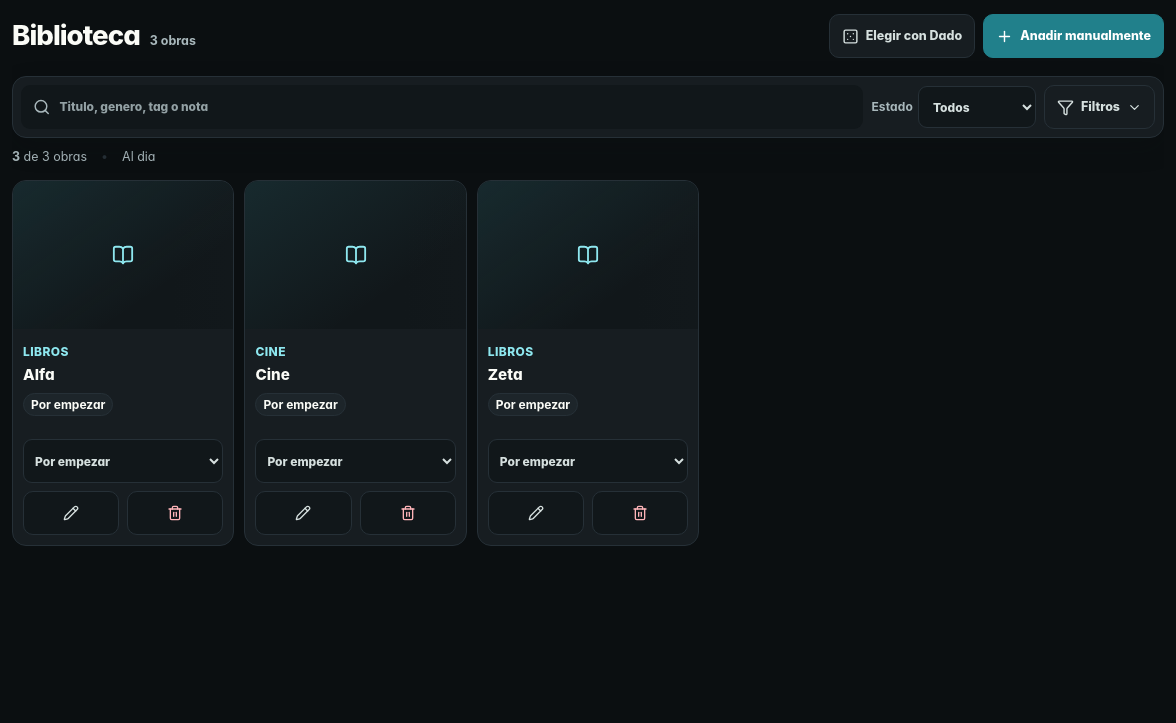
Test: LibraryTab simplificada › filtra por tipo, ordena, persiste densidad y restablece la vista
Click the button "Filtros": point(1099, 107) [1044,85,1155,129]
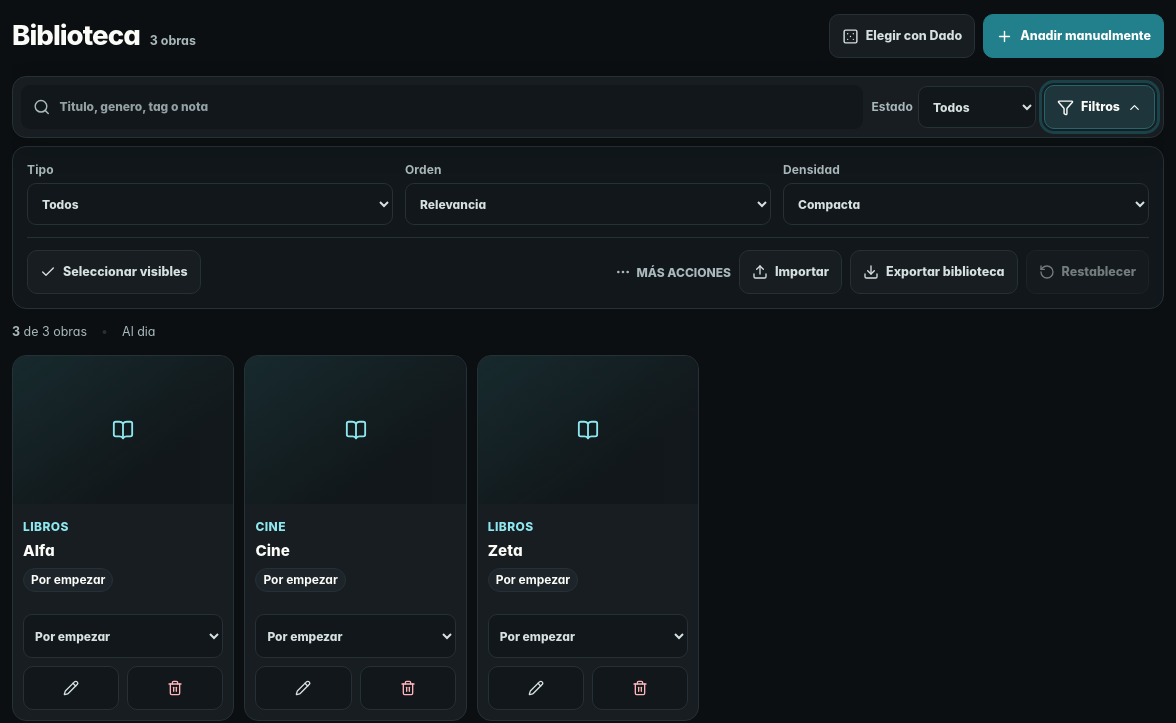
Select "Libros" in the dropdown named "Filtrar por tipo": point(210, 204) [27,183,393,225]
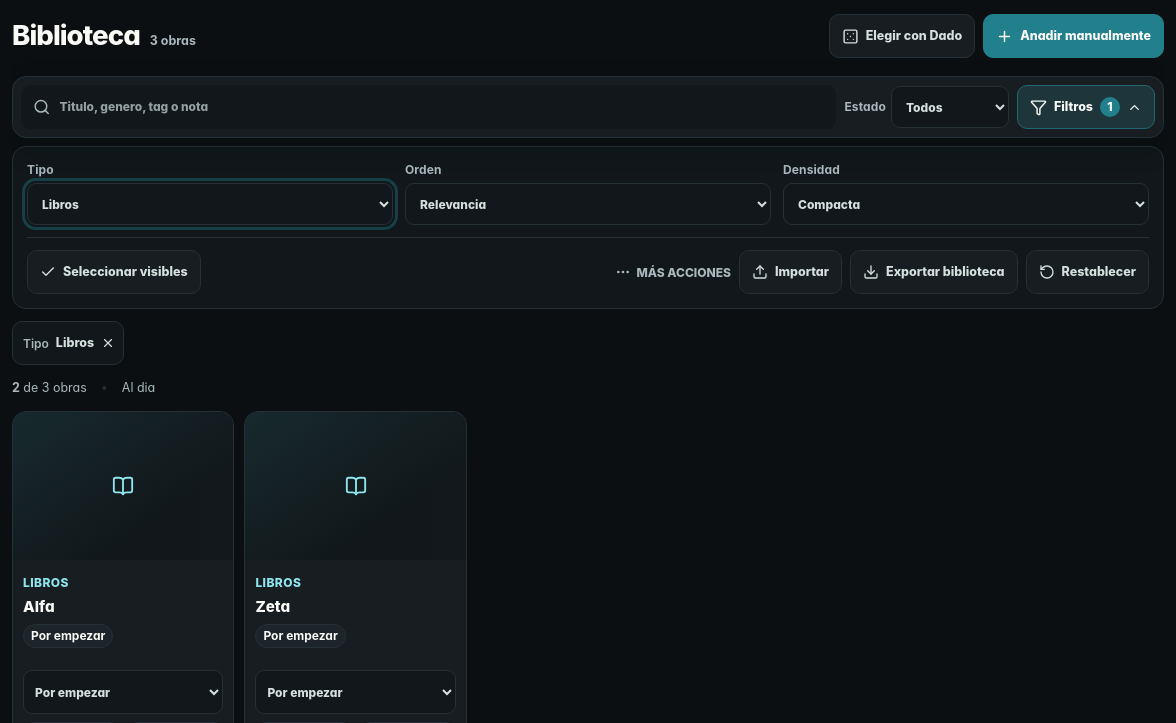
Select "Titulo" in the dropdown named "Ordenar biblioteca": point(588, 204) [405,183,771,225]
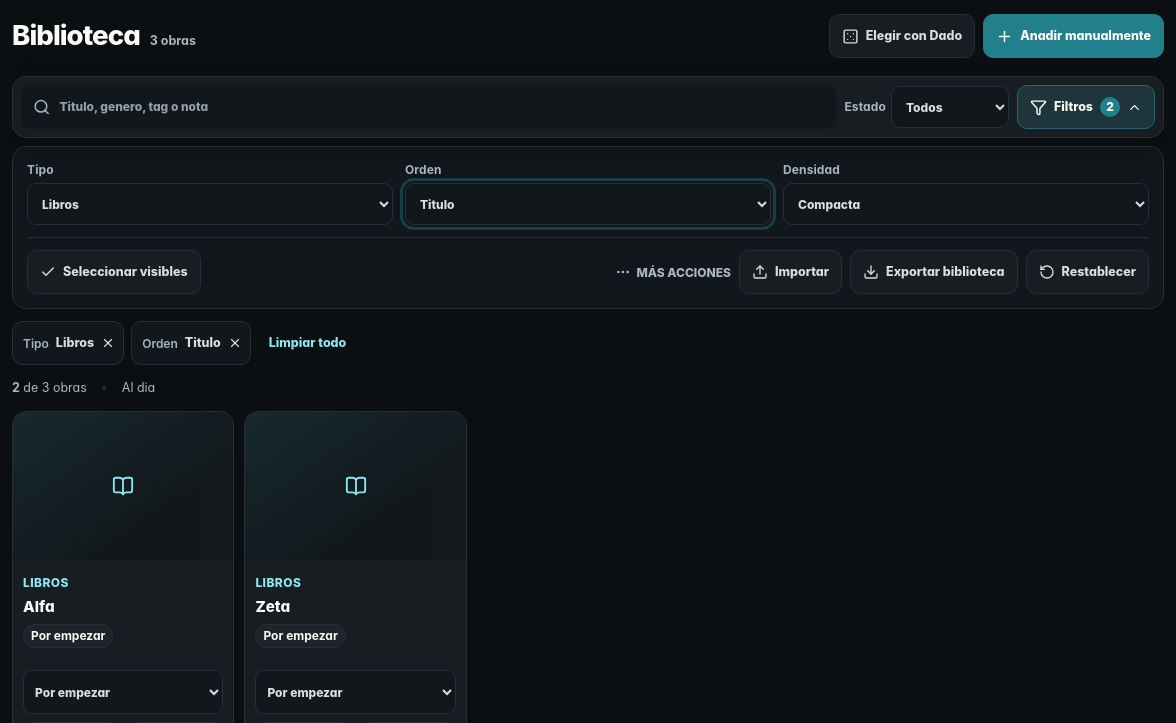
Expected: the headings read "Alfa", "Zeta", in this order, [23,597,55,616]; [255,597,290,616]
Select "Lista" in the dropdown named "Densidad de biblioteca": point(966, 204) [783,183,1149,225]
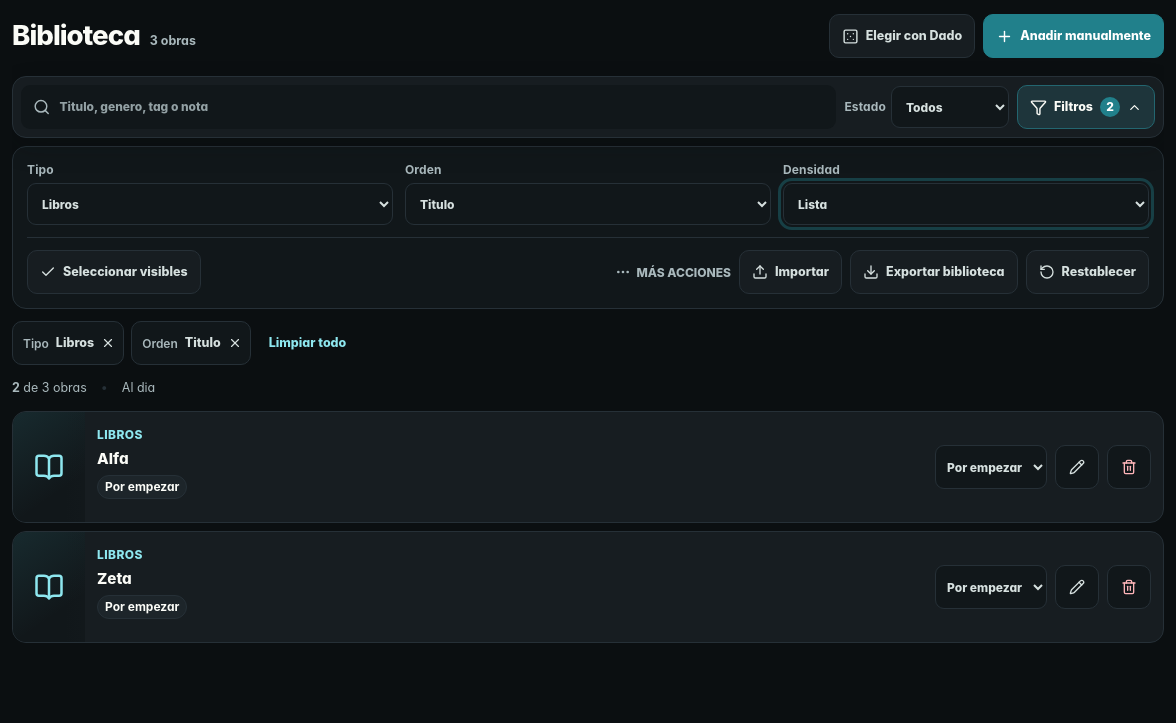
Expected: the list with test id "library-grid" has attribute data-density="list", [12,411,1164,643]
Click the button "Restablecer": point(1087, 272) [1026,250,1149,294]
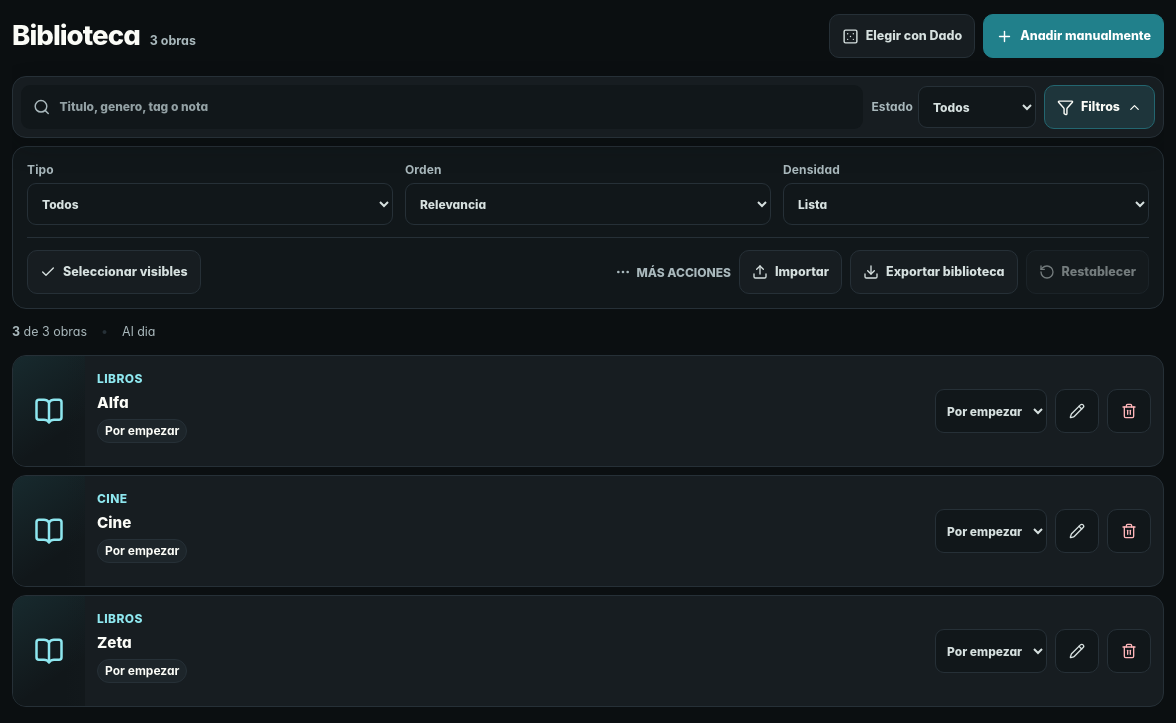
Expected: the heading "Cine" is shown, [97,513,131,532]
